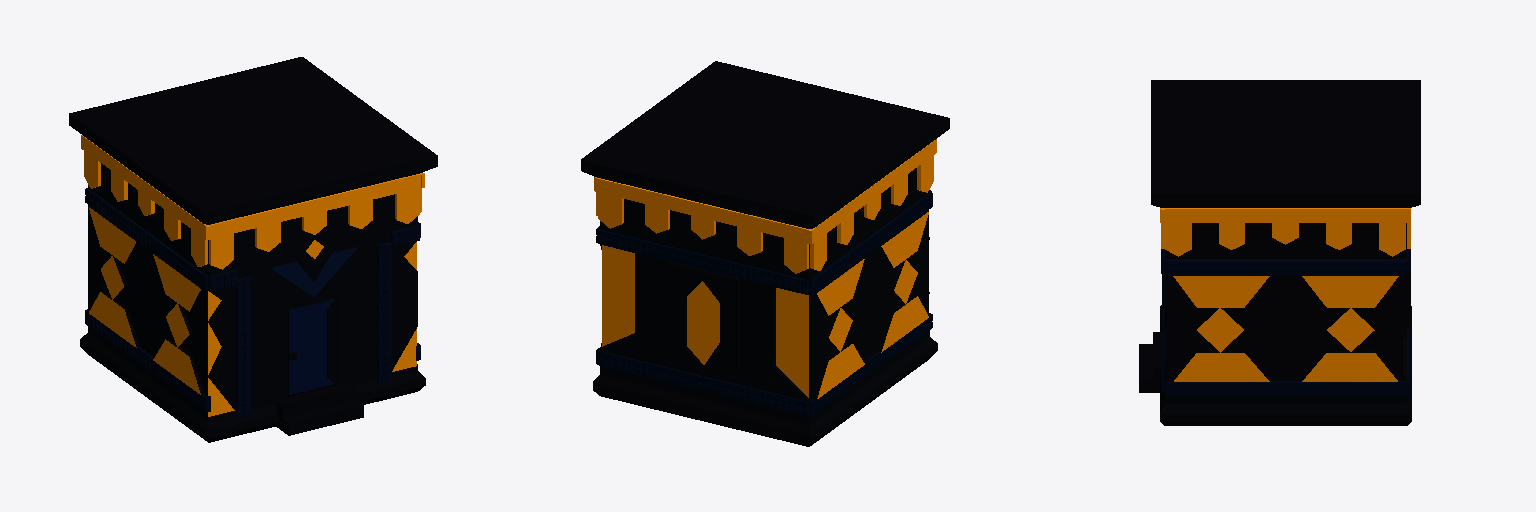
Rendered from HouseRock1.obj.
3 renders of one model, left to right at view 1: azimuth 30°, elevation 25°; view 2: azimuth 150°, elevation 25°; view 3: azimuth 270°, elevation 25°, orthographic.
Visible parts, largest first — view 1: Дом_Куб, Верхнее_украшение_Куб.001, Верхнее_украшение.003_Куб.004, Куб.360_Куб.005; view 2: Дом_Куб, Верхнее_украшение.001_Куб.002, Верхнее_украшение.003_Куб.004; view 3: Дом_Куб, Верхнее_украшение.002_Куб.003, Куб.360_Куб.005.
Boxes of the visible parts, x1=… form: Дом_Куб: x1=69, y1=57, x2=437, y2=442; Верхнее_украшение_Куб.001: x1=204, y1=174, x2=420, y2=269; Верхнее_украшение.003_Куб.004: x1=81, y1=135, x2=210, y2=266; Куб.360_Куб.005: x1=276, y1=383, x2=363, y2=435; Дом_Куб: x1=581, y1=61, x2=949, y2=446; Верхнее_украшение.001_Куб.002: x1=595, y1=178, x2=813, y2=273; Верхнее_украшение.003_Куб.004: x1=808, y1=141, x2=933, y2=270; Дом_Куб: x1=1151, y1=80, x2=1420, y2=425; Верхнее_украшение.002_Куб.003: x1=1160, y1=208, x2=1409, y2=256; Куб.360_Куб.005: x1=1139, y1=332, x2=1161, y2=392.
Bounding box in the file's own units: 6.71 × 6.54 × 7.